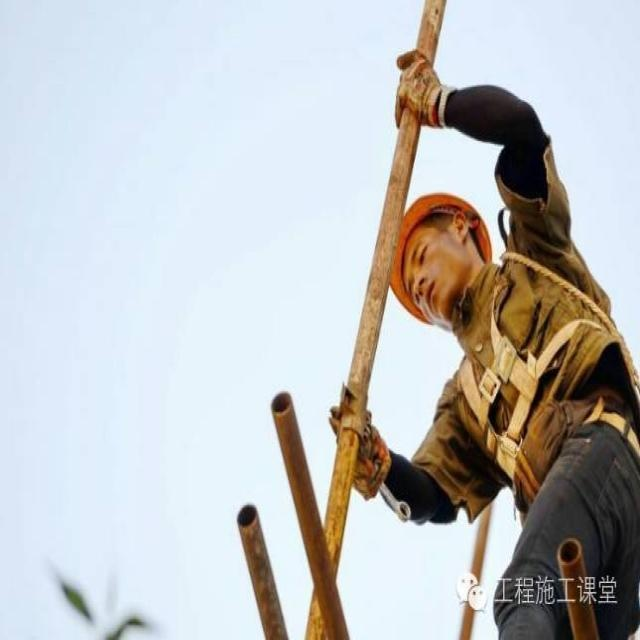Arnes_seguridad: (455, 259, 623, 495)
